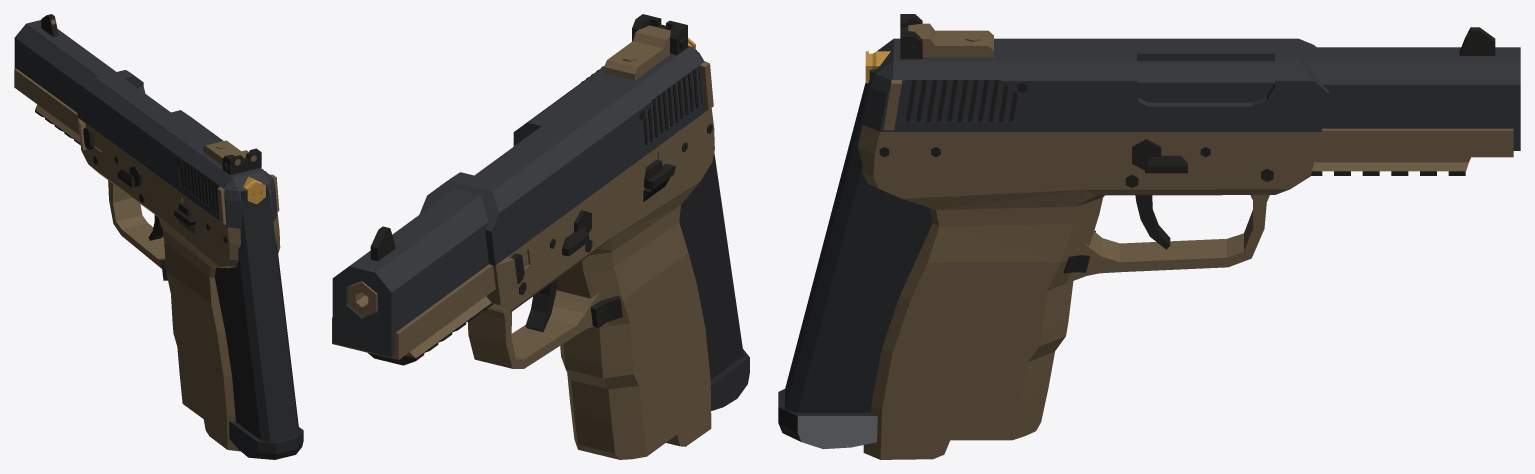
Rendered from pistol.glb.
The picture shows the model from 3 angles, left to right: view 1: azimuth 30°, elevation 25°; view 2: azimuth 150°, elevation 25°; view 3: azimuth 270°, elevation 25°; orthographic projection. The views are drawn at different scales.
Parts seen in each view (by area): view 1: pistol, pistol_mag, pistol_round; view 2: pistol, pistol_mag; view 3: pistol, pistol_mag.
Part boxes in pixels (bbox=[...]): pistol: bbox=[14, 14, 280, 451]; pistol_mag: bbox=[215, 185, 303, 459]; pistol_round: bbox=[243, 176, 265, 204]; pistol: bbox=[332, 14, 714, 459]; pistol_mag: bbox=[679, 50, 749, 410]; pistol: bbox=[857, 14, 1520, 459]; pistol_mag: bbox=[778, 69, 932, 449].
Bounding box in the file's own units: 0.0317 × 0.1384 × 0.2234.
1 material, 1 textured.
